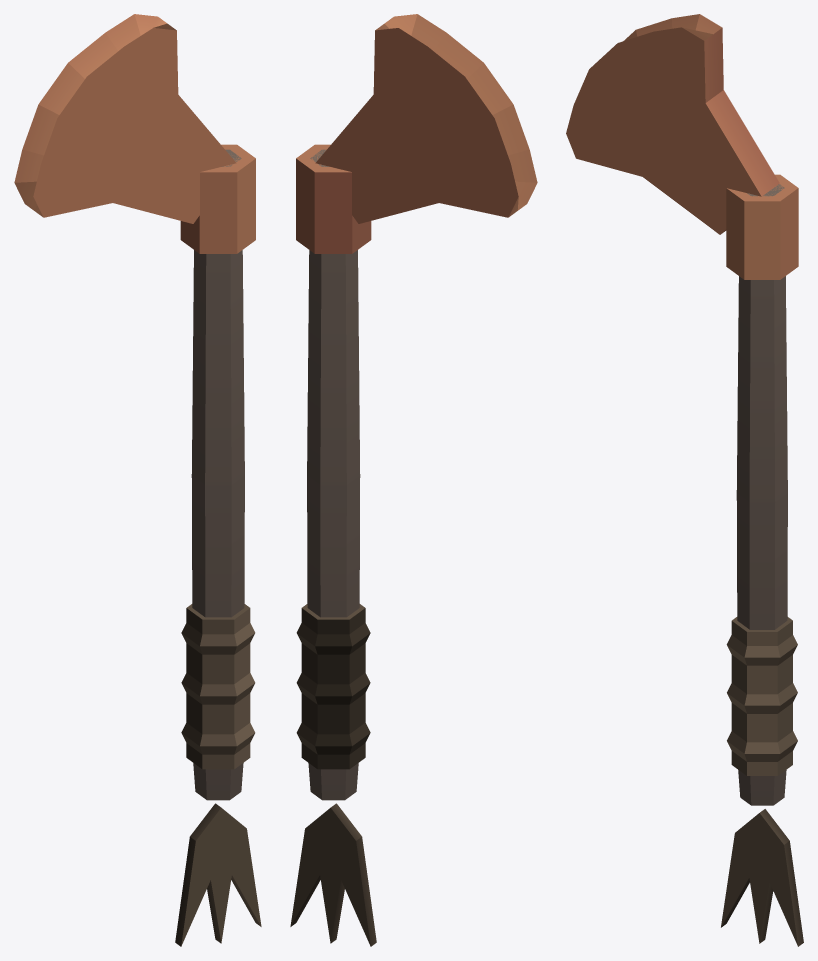
Rendered from barb_throwing_0.gltf.
3 renders of one model, left to right at view 1: azimuth 30°, elevation 25°; view 2: azimuth 150°, elevation 25°; view 3: azimuth 330°, elevation 25°, orthographic. The views are drawn at different scales.
Parts seen in each view (by area): view 1: barb_throwing_0; view 2: barb_throwing_0; view 3: barb_throwing_0.
Boxes of the visible parts, x1,y1,x2,y2 form: barb_throwing_0: (14,14,261,946); barb_throwing_0: (290,14,537,946); barb_throwing_0: (566,14,803,946).
Bounding box in the file's own units: 0.3607 × 1.38 × 0.1.
Materials: 1 (1 with a texture image).
